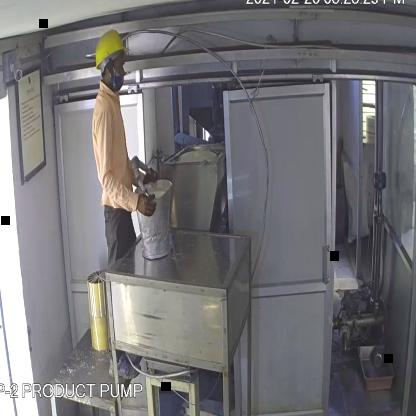helmet: (94, 29, 127, 71)
